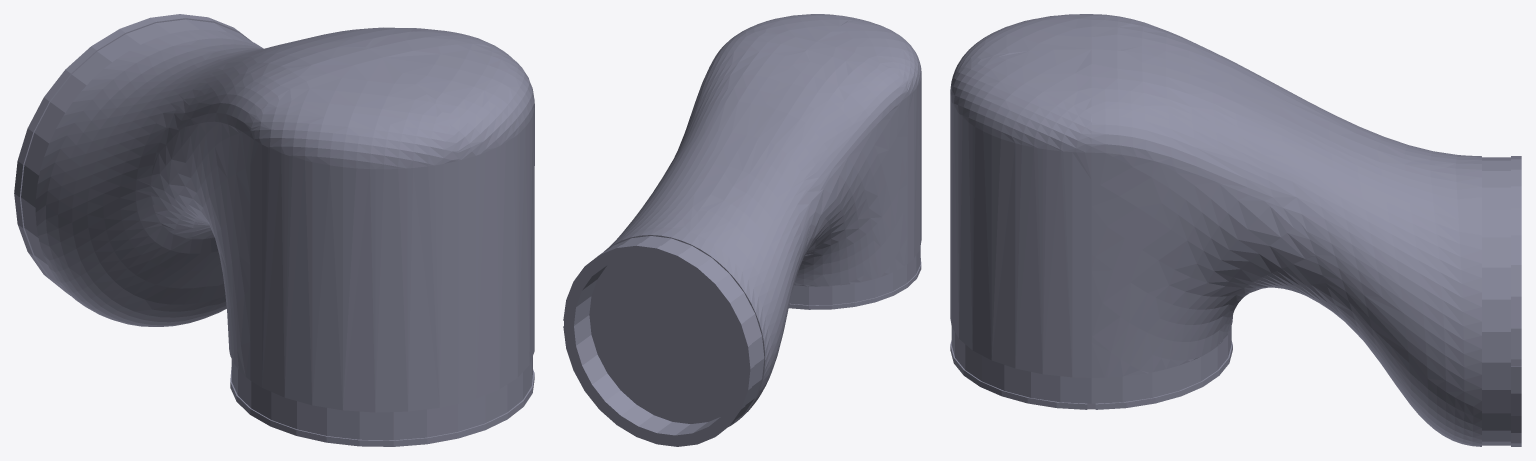
File: arm1_link3_visuals.obj
The picture shows the model from 3 angles, left to right: view 1: azimuth 30°, elevation 25°; view 2: azimuth 150°, elevation 25°; view 3: azimuth 270°, elevation 25°; orthographic projection. The views are drawn at different scales.
Size of the model in its own units: 0.07 by 0.102 by 0.1375.
